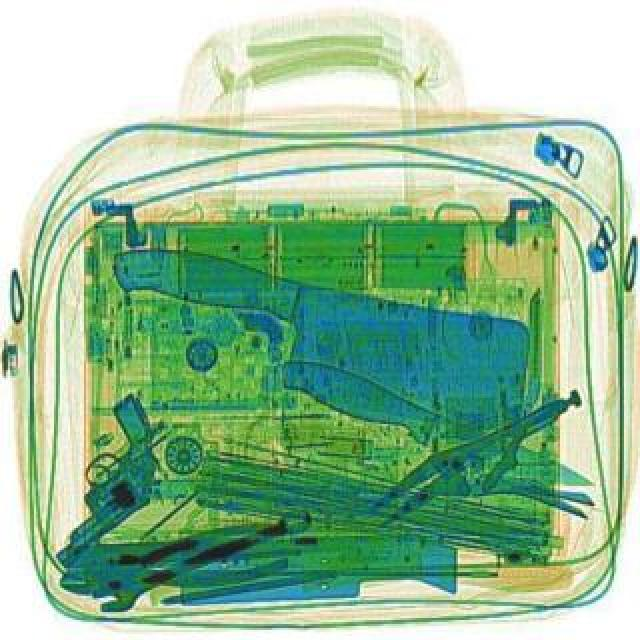gun: (0, 390, 196, 566)
knife: (90, 234, 542, 432), (272, 346, 598, 502)
scissors: (84, 492, 316, 616)
wrench: (52, 510, 292, 612)
